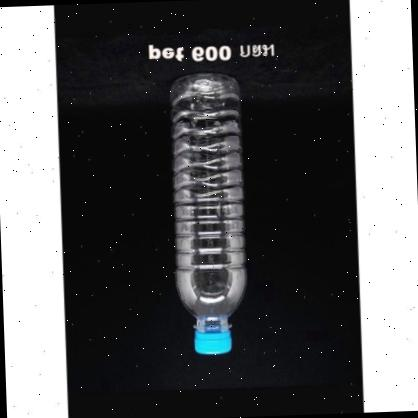bottle: (168, 71, 252, 355)
cap: (193, 326, 233, 354)
